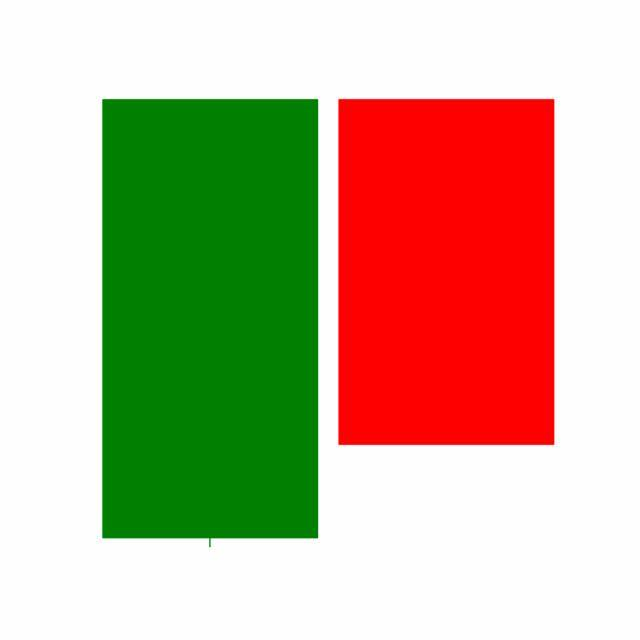Marubozu: (328, 96, 566, 450)
